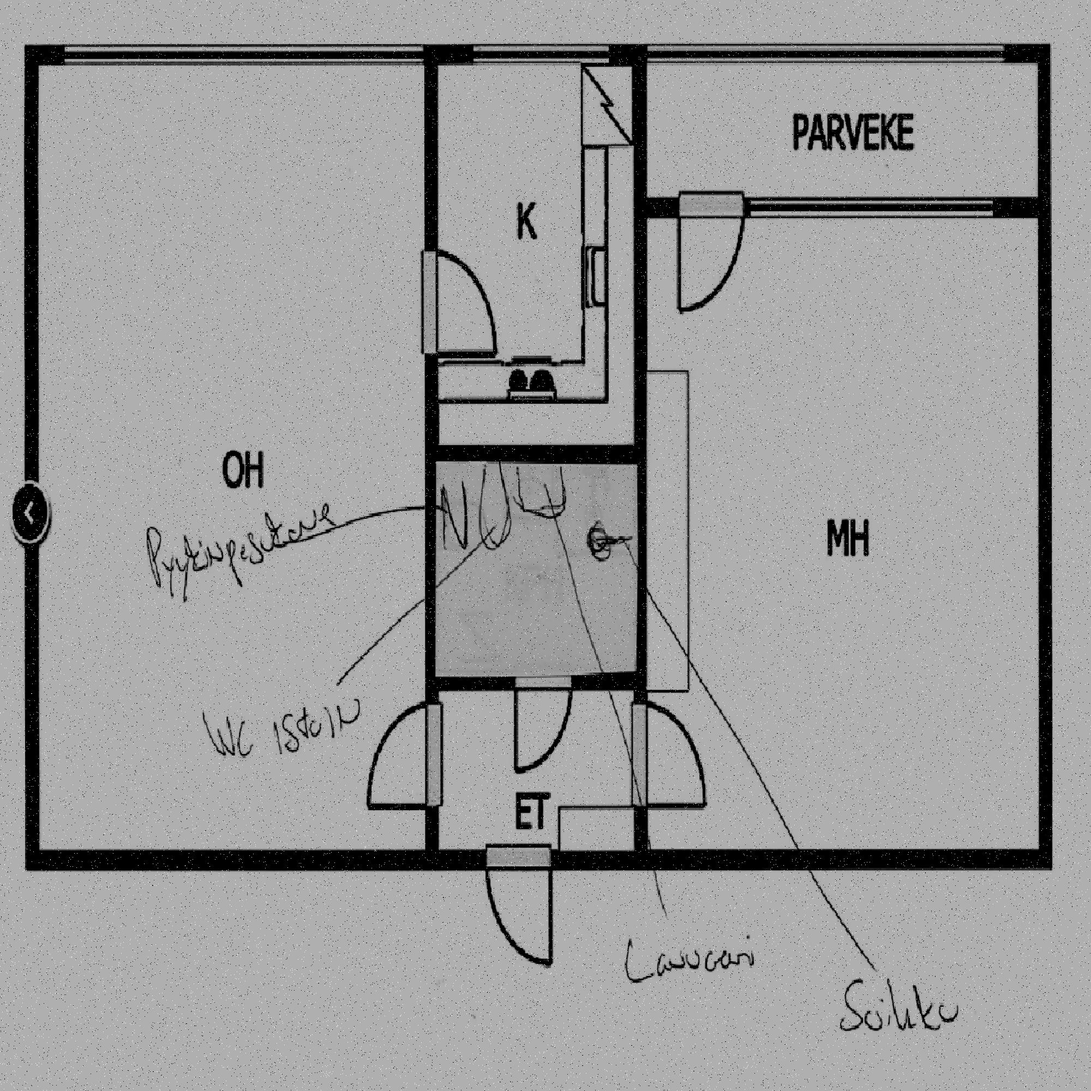wall: (26, 849, 1052, 869), (26, 44, 647, 64), (424, 44, 437, 869), (26, 44, 38, 869), (1040, 196, 1053, 869), (634, 196, 1052, 216), (647, 44, 1053, 64), (634, 196, 646, 869), (424, 669, 647, 689), (424, 447, 647, 467), (1040, 44, 1053, 197), (634, 44, 646, 197)
